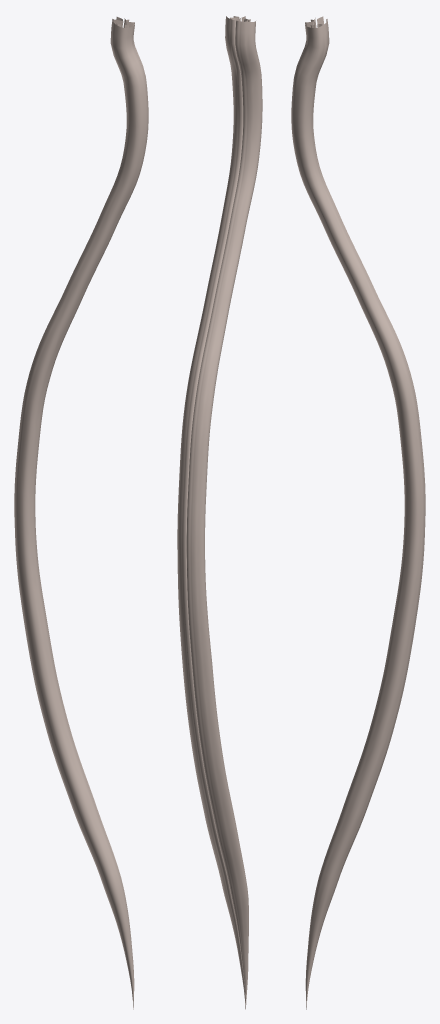
The model's file is snc-rachis.hi.glb.
3 views of the same model, side by side, from view 1: azimuth 90°, elevation 25°; view 2: azimuth 150°, elevation 25°; view 3: azimuth 270°, elevation 25° (orthographic).
Parts seen in each view (by area): view 1: ZA-white-matter-of-spinal-cord; view 2: ZA-white-matter-of-spinal-cord; view 3: ZA-white-matter-of-spinal-cord.
Boxes of the visible parts, left/top/right/bottom form: ZA-white-matter-of-spinal-cord: left=14, top=19, right=148, bottom=1009; ZA-white-matter-of-spinal-cord: left=177, top=16, right=262, bottom=1009; ZA-white-matter-of-spinal-cord: left=291, top=19, right=425, bottom=1009.
Bounding box in the file's own units: 0.0141 × 0.4753 × 0.0584.
